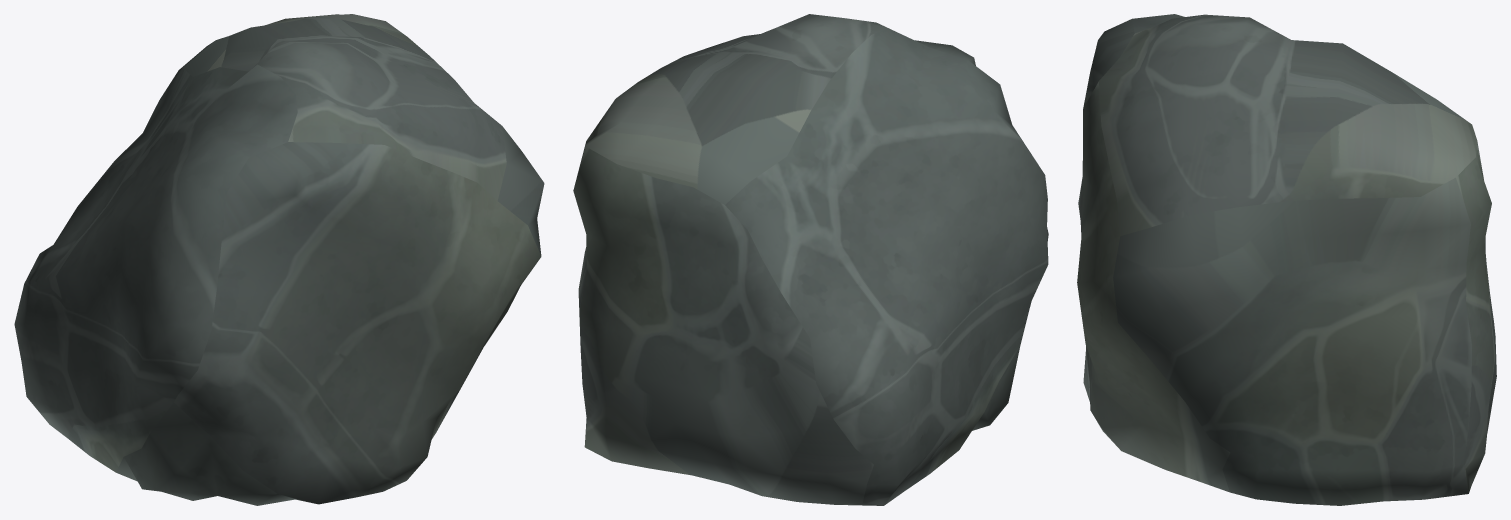
The model's file is Rock.fbx.
3 renders of one model, left to right at view 1: azimuth 30°, elevation 25°; view 2: azimuth 150°, elevation 25°; view 3: azimuth 270°, elevation 25°, orthographic. The views are drawn at different scales.
Visible parts, largest first — view 1: Rock_L; view 2: Rock_L; view 3: Rock_L.
Part boxes in pixels (<box>): Rock_L: <box>14,14,544,505</box>; Rock_L: <box>573,14,1048,505</box>; Rock_L: <box>1077,14,1496,505</box>.
Bounding box in the file's own units: 237 × 231 × 213.
